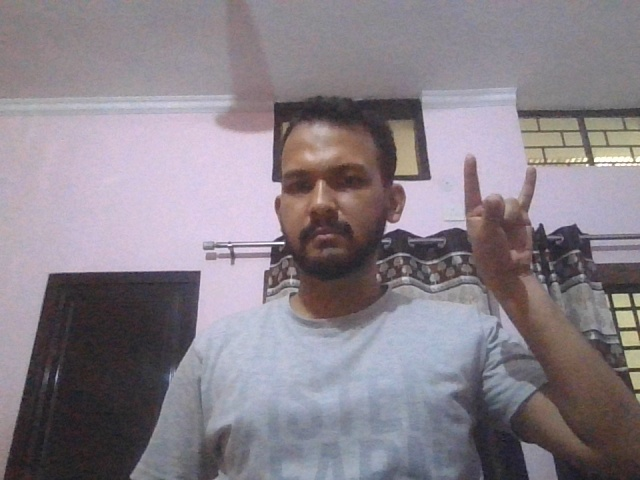iloveyou: (462, 154, 540, 282)
